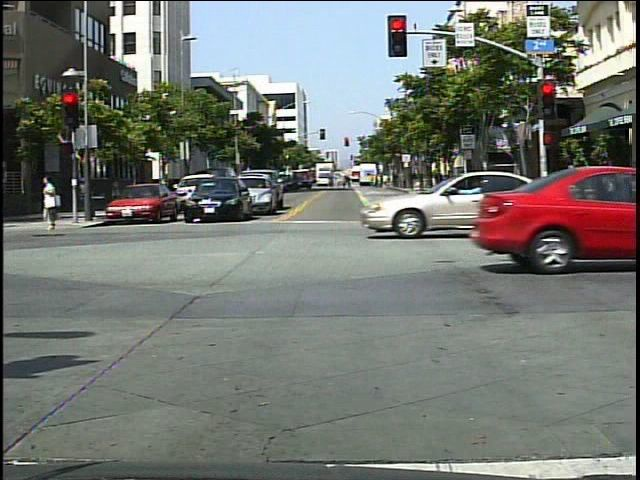person: (37, 171, 68, 235), (560, 161, 582, 212)
